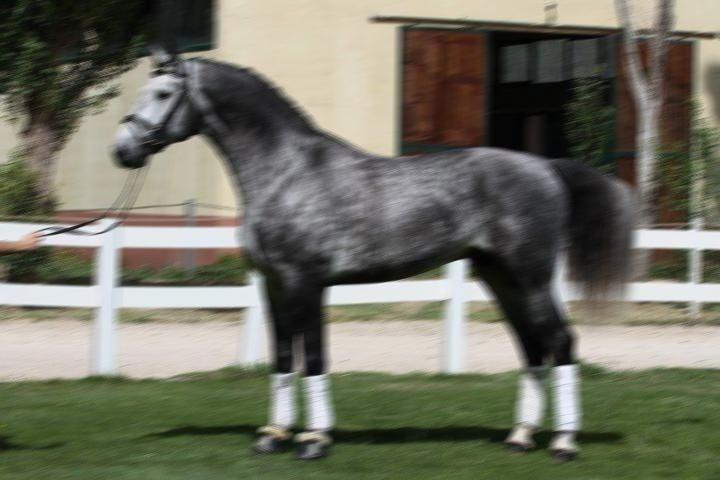horse: (109, 37, 640, 463)
